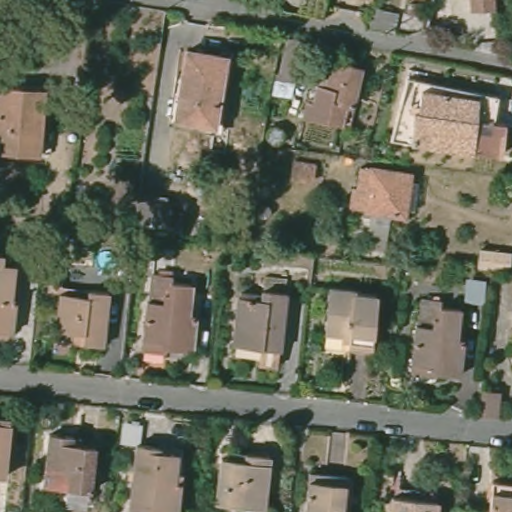pool: (95, 246, 119, 279)
